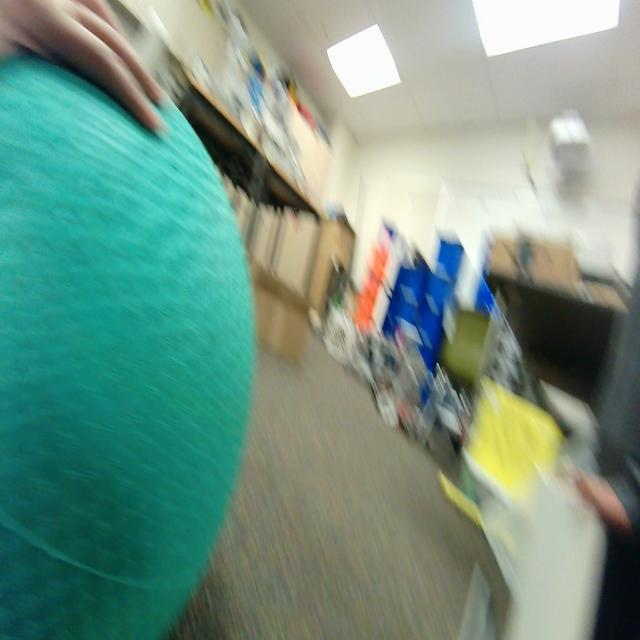algae: (0, 16, 261, 640)
